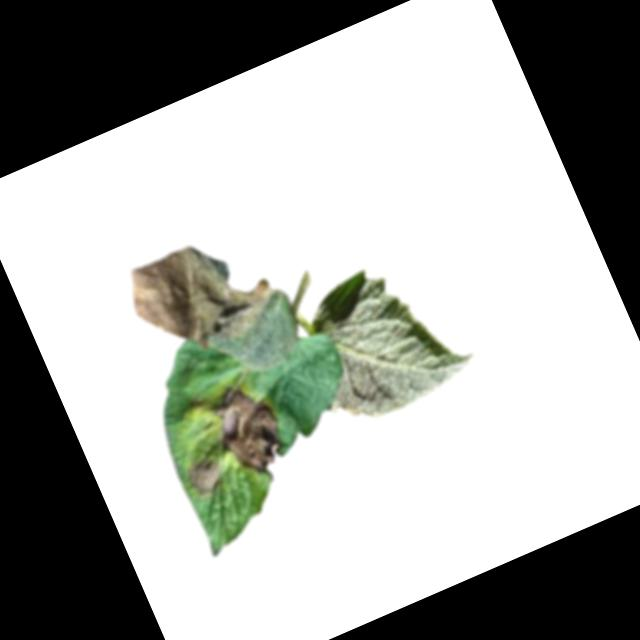Late_blight: (108, 216, 310, 411), (198, 372, 294, 486), (181, 454, 229, 501)
healthy: (279, 241, 483, 437)
